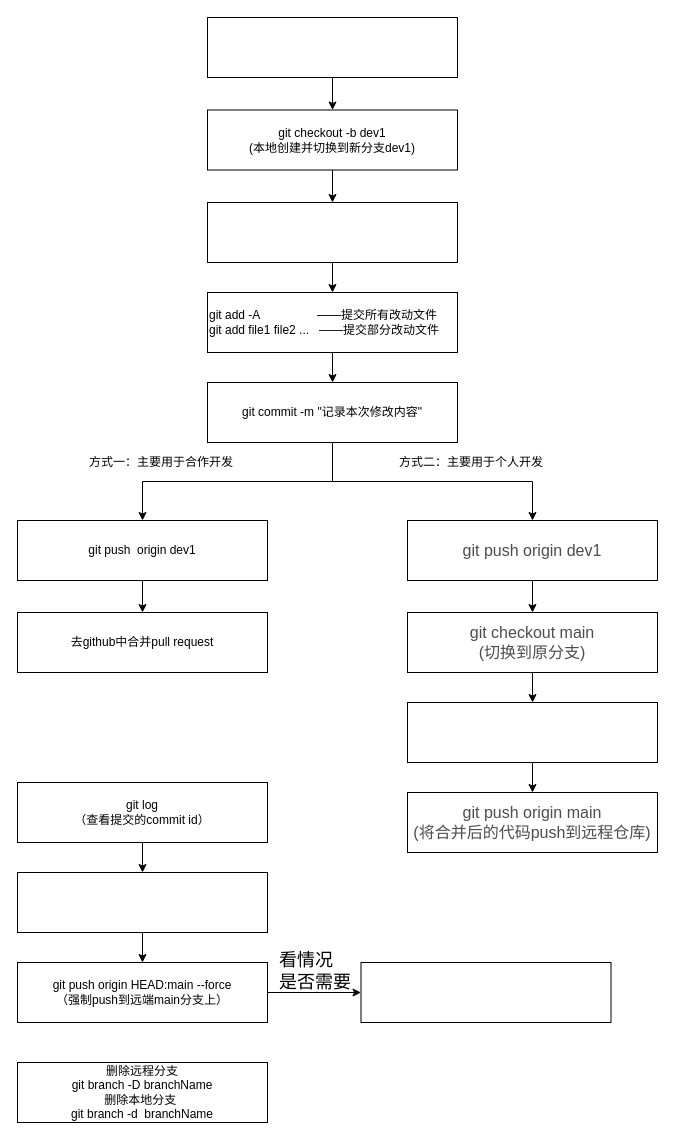
The diagram is 675 pixels wide and 1140 high, and some of its shapes have lost their labels. The shapes that lost their labels are listed below. From the top down, each one's centre as x and y in pixels, then its label:
[332,47]: git clone https://github.com/......
[332,232]: 修改代码
[532,732]: git merge origin/dev1
[142,902]: git reset --hard 9d174（commit id名取前5位） （强制回退到某一次commit）
[485,992]: git remote prune origin (删除远端未被追踪的分支)
